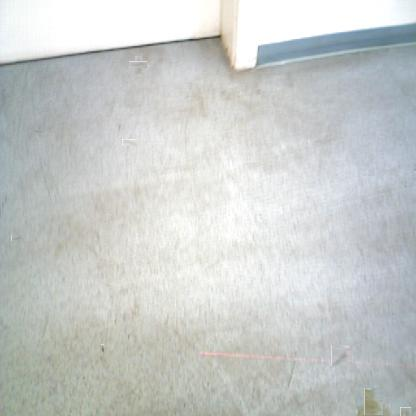liquid: (359, 392, 387, 416), (400, 407, 411, 416)
mark: (331, 345, 353, 366), (286, 361, 296, 391), (132, 59, 145, 71), (1, 194, 7, 218), (124, 137, 135, 148), (34, 126, 44, 136), (13, 234, 21, 243), (118, 122, 122, 132), (100, 344, 104, 353)
